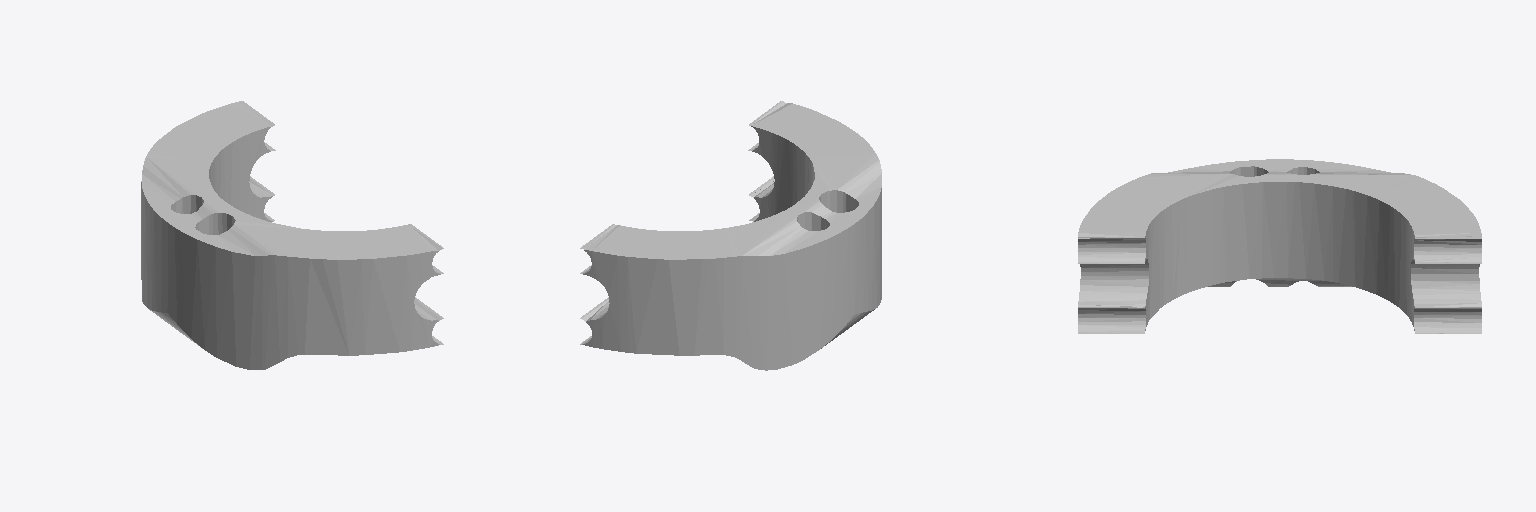
The model's file is seg19.OBJ.
3 views of the same model, side by side, from view 1: azimuth 30°, elevation 25°; view 2: azimuth 150°, elevation 25°; view 3: azimuth 270°, elevation 25° (orthographic).
Parts seen in each view (by area): view 1: /ambf/env/seg19_seg19; view 2: /ambf/env/seg19_seg19; view 3: /ambf/env/seg19_seg19.
Boxes of the visible parts, <box> form: /ambf/env/seg19_seg19: <box>141,101,443,369</box>; /ambf/env/seg19_seg19: <box>580,101,881,370</box>; /ambf/env/seg19_seg19: <box>1078,159,1481,333</box>.
Size of the model in its own units: 0.003 by 0.002 by 0.006.